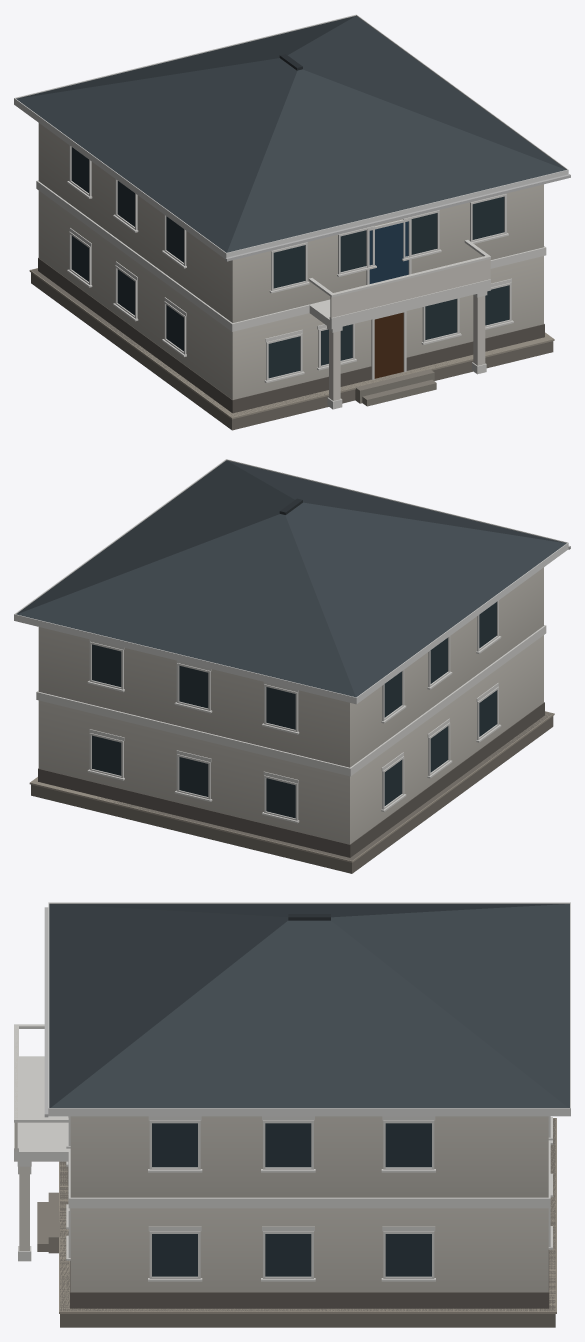
Rendered from ns_storey_lod1.glb.
The picture shows the model from 3 angles, top to bottom: view 1: azimuth 30°, elevation 25°; view 2: azimuth 150°, elevation 25°; view 3: azimuth 270°, elevation 25°; orthographic projection. The views are drawn at different scales.
Visible parts, largest first — view 1: ns_storey_lod1; view 2: ns_storey_lod1; view 3: ns_storey_lod1.
Boxes of the visible parts, x1=… form: ns_storey_lod1: x1=14, y1=14, x2=570, y2=430; ns_storey_lod1: x1=14, y1=459, x2=570, y2=873; ns_storey_lod1: x1=14, y1=902, x2=570, y2=1327.
Size of the model in its own units: 13.82 by 9.83 by 15.73.
